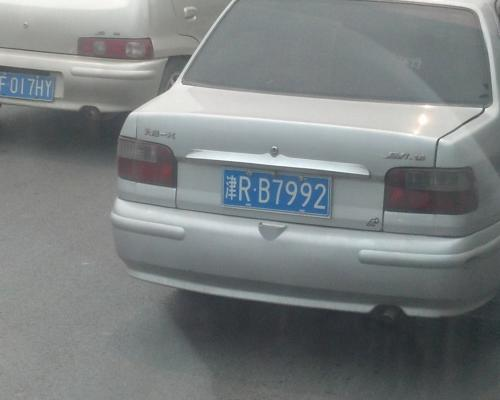Carplate: (214, 157, 338, 221)
